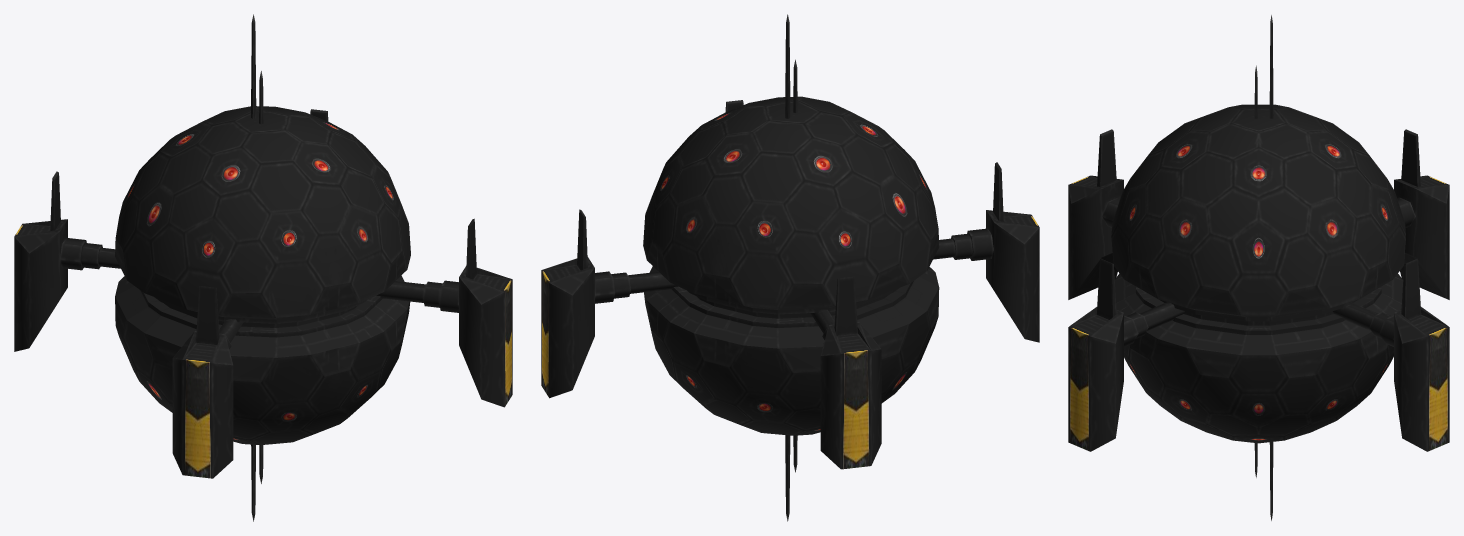
The model's file is vessel.fbx.
3 renders of one model, left to right at view 1: azimuth 30°, elevation 25°; view 2: azimuth 150°, elevation 25°; view 3: azimuth 270°, elevation 25°, orthographic.
Parts seen in each view (by area): view 1: Beholder; view 2: Beholder; view 3: Beholder.
Boxes of the visible parts, <box> form: Beholder: <box>14,14,512,521</box>; Beholder: <box>541,14,1039,521</box>; Beholder: <box>1068,15,1449,520</box>.
Bounding box in the file's own units: 107 × 157 × 107.
Materials: 1 (1 with a texture image).
